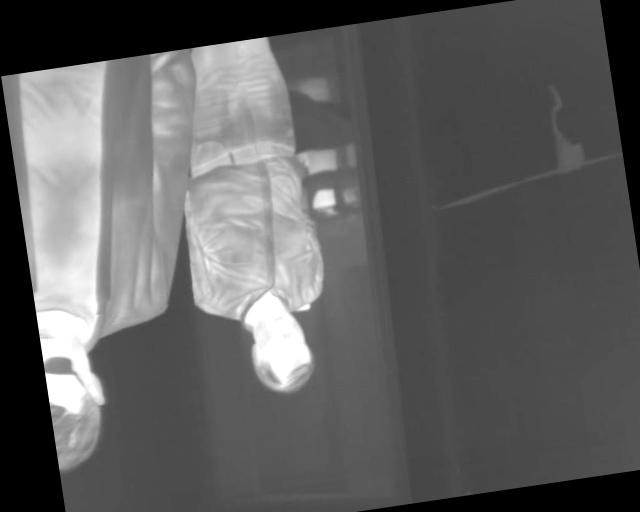face: (243, 301, 318, 399)
